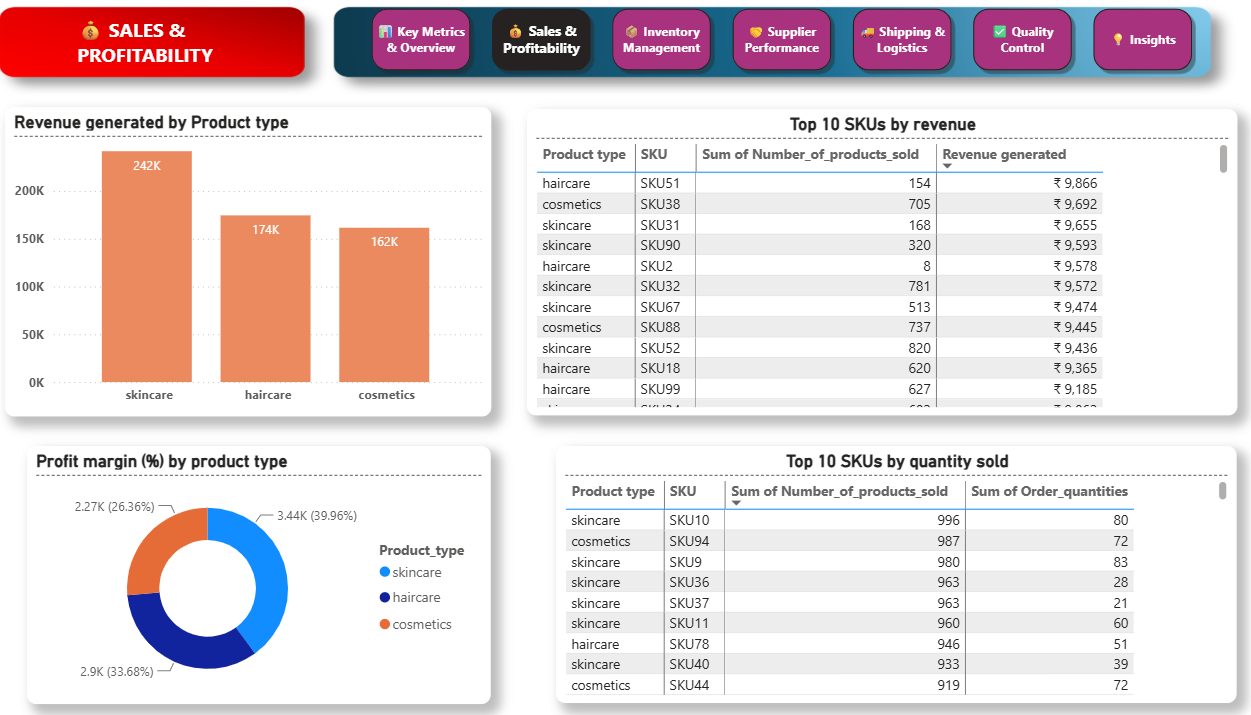

This screenshot's page, from the dashboard's own definition file:
{"tool":"powerbi","page":{"name":"💰 Sales & Profitability","canvas":[1280,720],"ordinal":1},"visuals":[{"type":"clusteredColumnChart","title":"Revenue generated by Product type","fields":{"Category":["supply2.Product_type"],"Y":["Sum(supply2.Revenue_generated)"]},"box":[55.4,118.7,472.7,300.5],"z":0},{"type":"donutChart","title":"Profit margin (%) by product type","fields":{"Category":["supply2.Product_type"],"Y":["Sum(Profit_margin_pctge.Profit_margin_pct)"]},"box":[76.8,448.4,451.3,250.9],"z":1000},{"type":"tableEx","title":"Top 10 SKUs by revenue","fields":{"Values":["supply2.Product_type","supply2.SKU","Sum(supply2.Number_of_products_sold)","supply2.Revenue_generated"]},"box":[563.2,120.6,690.6,297.6],"z":2000},{"type":"tableEx","title":"Top 10 SKUs by quantity sold","fields":{"Values":["supply2.Product_type","supply2.SKU","Sum(supply2.Number_of_products_sold)","Sum(supply2.Order_quantities)"]},"box":[591.4,448.4,662.4,250],"z":3000},{"type":"image","box":[44.7,17.5,1209,91.4],"z":4000},{"type":"textbox","box":[120.6,25.3,194.5,70],"z":5000},{"type":"pageNavigator","box":[406.6,17.5,811.2,71],"z":6000}]}

Visuals, with their boxes in screenshot pixels (x1, y1, x2, y2), scaled from the page's 1280x720 canvas onto the 1251x715 screenshot:
"Revenue generated by Product type" clusteredColumnChart: (x1=54, y1=118, x2=516, y2=416)
"Profit margin (%) by product type" donutChart: (x1=75, y1=445, x2=516, y2=694)
"Top 10 SKUs by revenue" tableEx: (x1=550, y1=120, x2=1225, y2=415)
"Top 10 SKUs by quantity sold" tableEx: (x1=578, y1=445, x2=1225, y2=694)
image: (x1=44, y1=17, x2=1225, y2=108)
textbox: (x1=118, y1=25, x2=308, y2=95)
pageNavigator: (x1=397, y1=17, x2=1190, y2=88)
